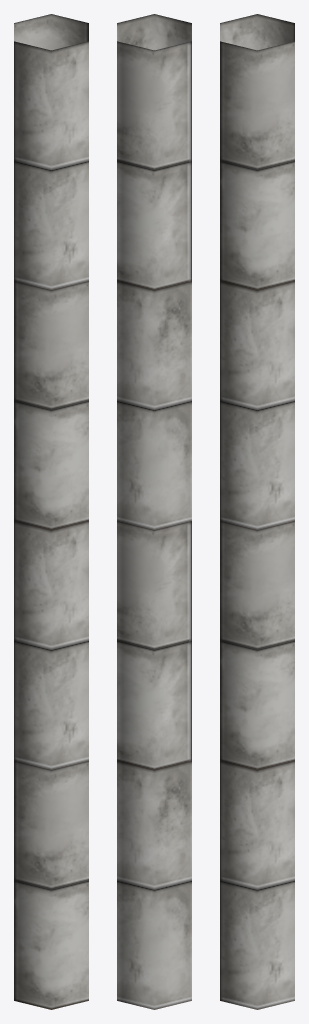
The model's file is Pillar.fbx.
3 views of the same model, side by side, from view 1: azimuth 90°, elevation 25°; view 2: azimuth 210°, elevation 25°; view 3: azimuth 270°, elevation 25° (orthographic).
Parts seen in each view (by area): view 1: Pillar_1; view 2: Pillar_1; view 3: Pillar_1.
Part boxes in pixels (x1,y1,x2,y2): Pillar_1: [14, 14, 88, 1009]; Pillar_1: [117, 14, 191, 1009]; Pillar_1: [220, 14, 294, 1009].
Bounding box in the file's own units: 132 × 1616 × 114.
